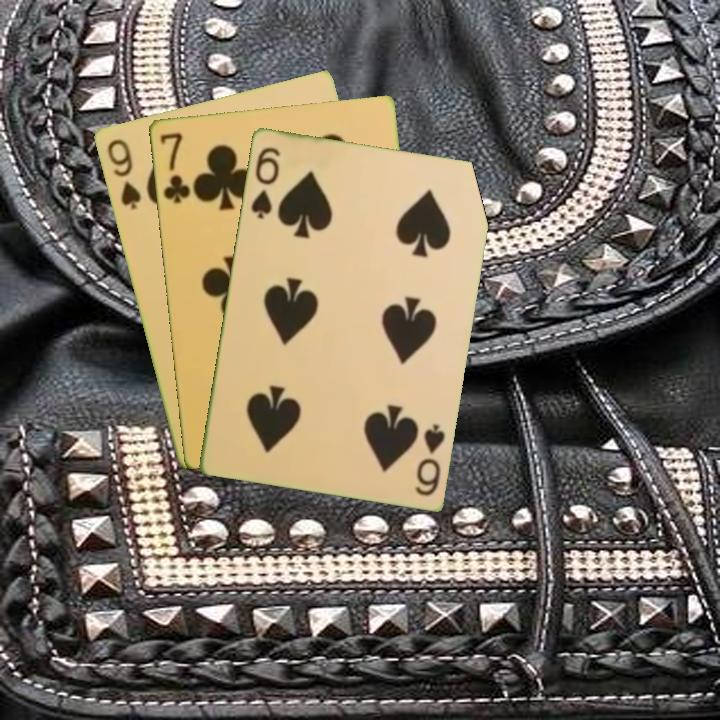6s: (411, 420, 448, 498), (247, 143, 283, 221)
7c: (156, 129, 193, 206)
9s: (103, 135, 144, 212)
